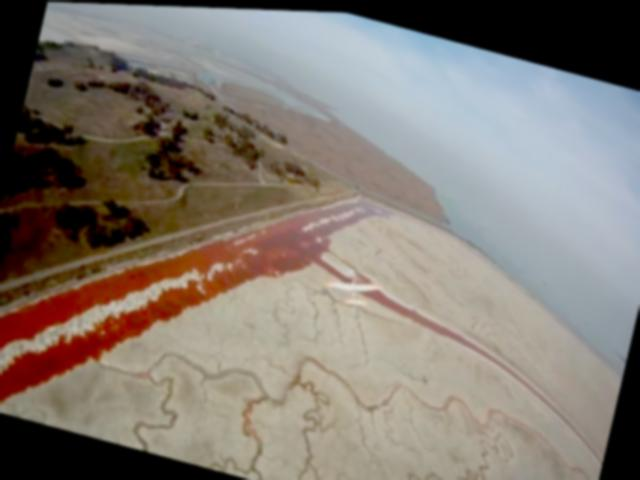uav: (317, 258, 387, 315)
